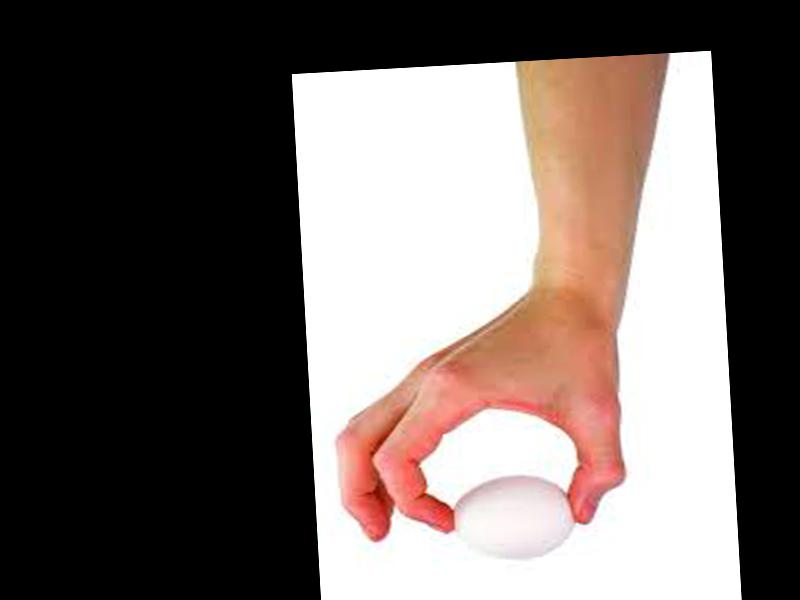Eggs: (450, 472, 576, 563)
